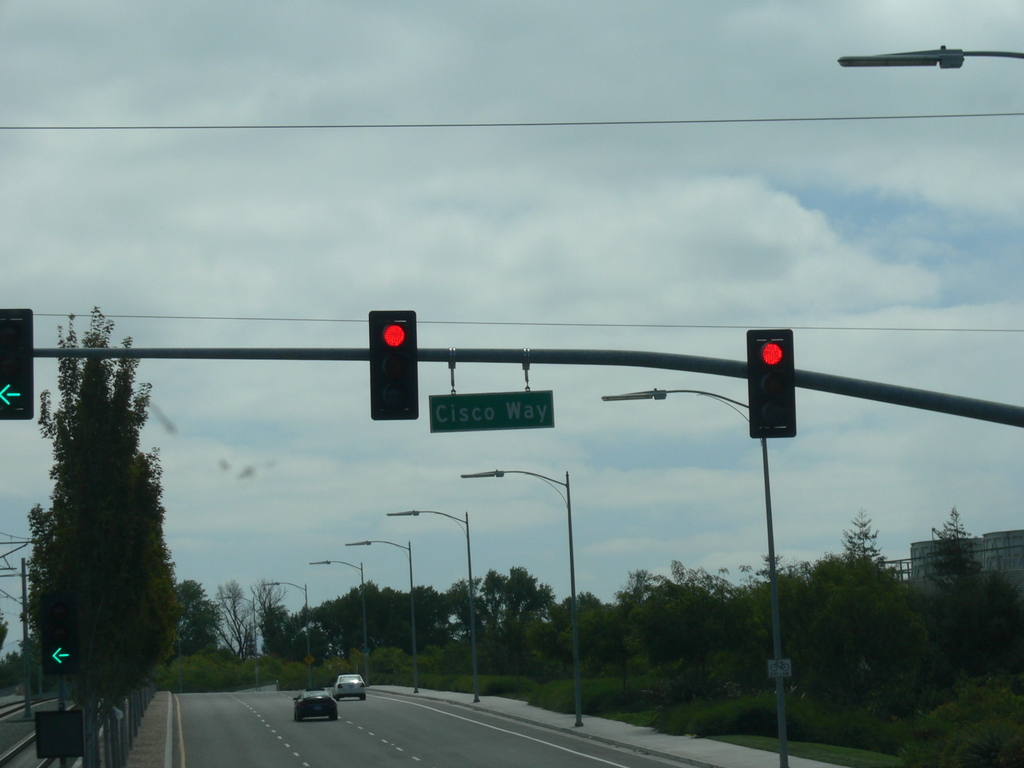red_light: (370, 314, 418, 416), (750, 331, 793, 436)
